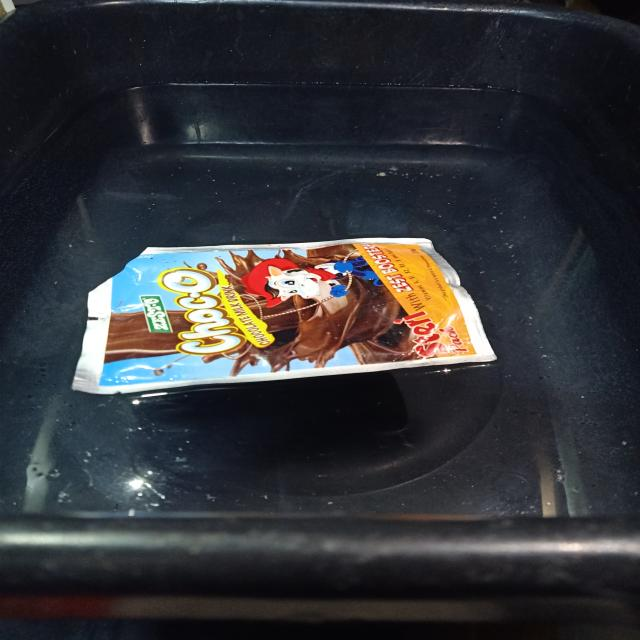Plastic Pouch: (72, 238, 495, 394)
